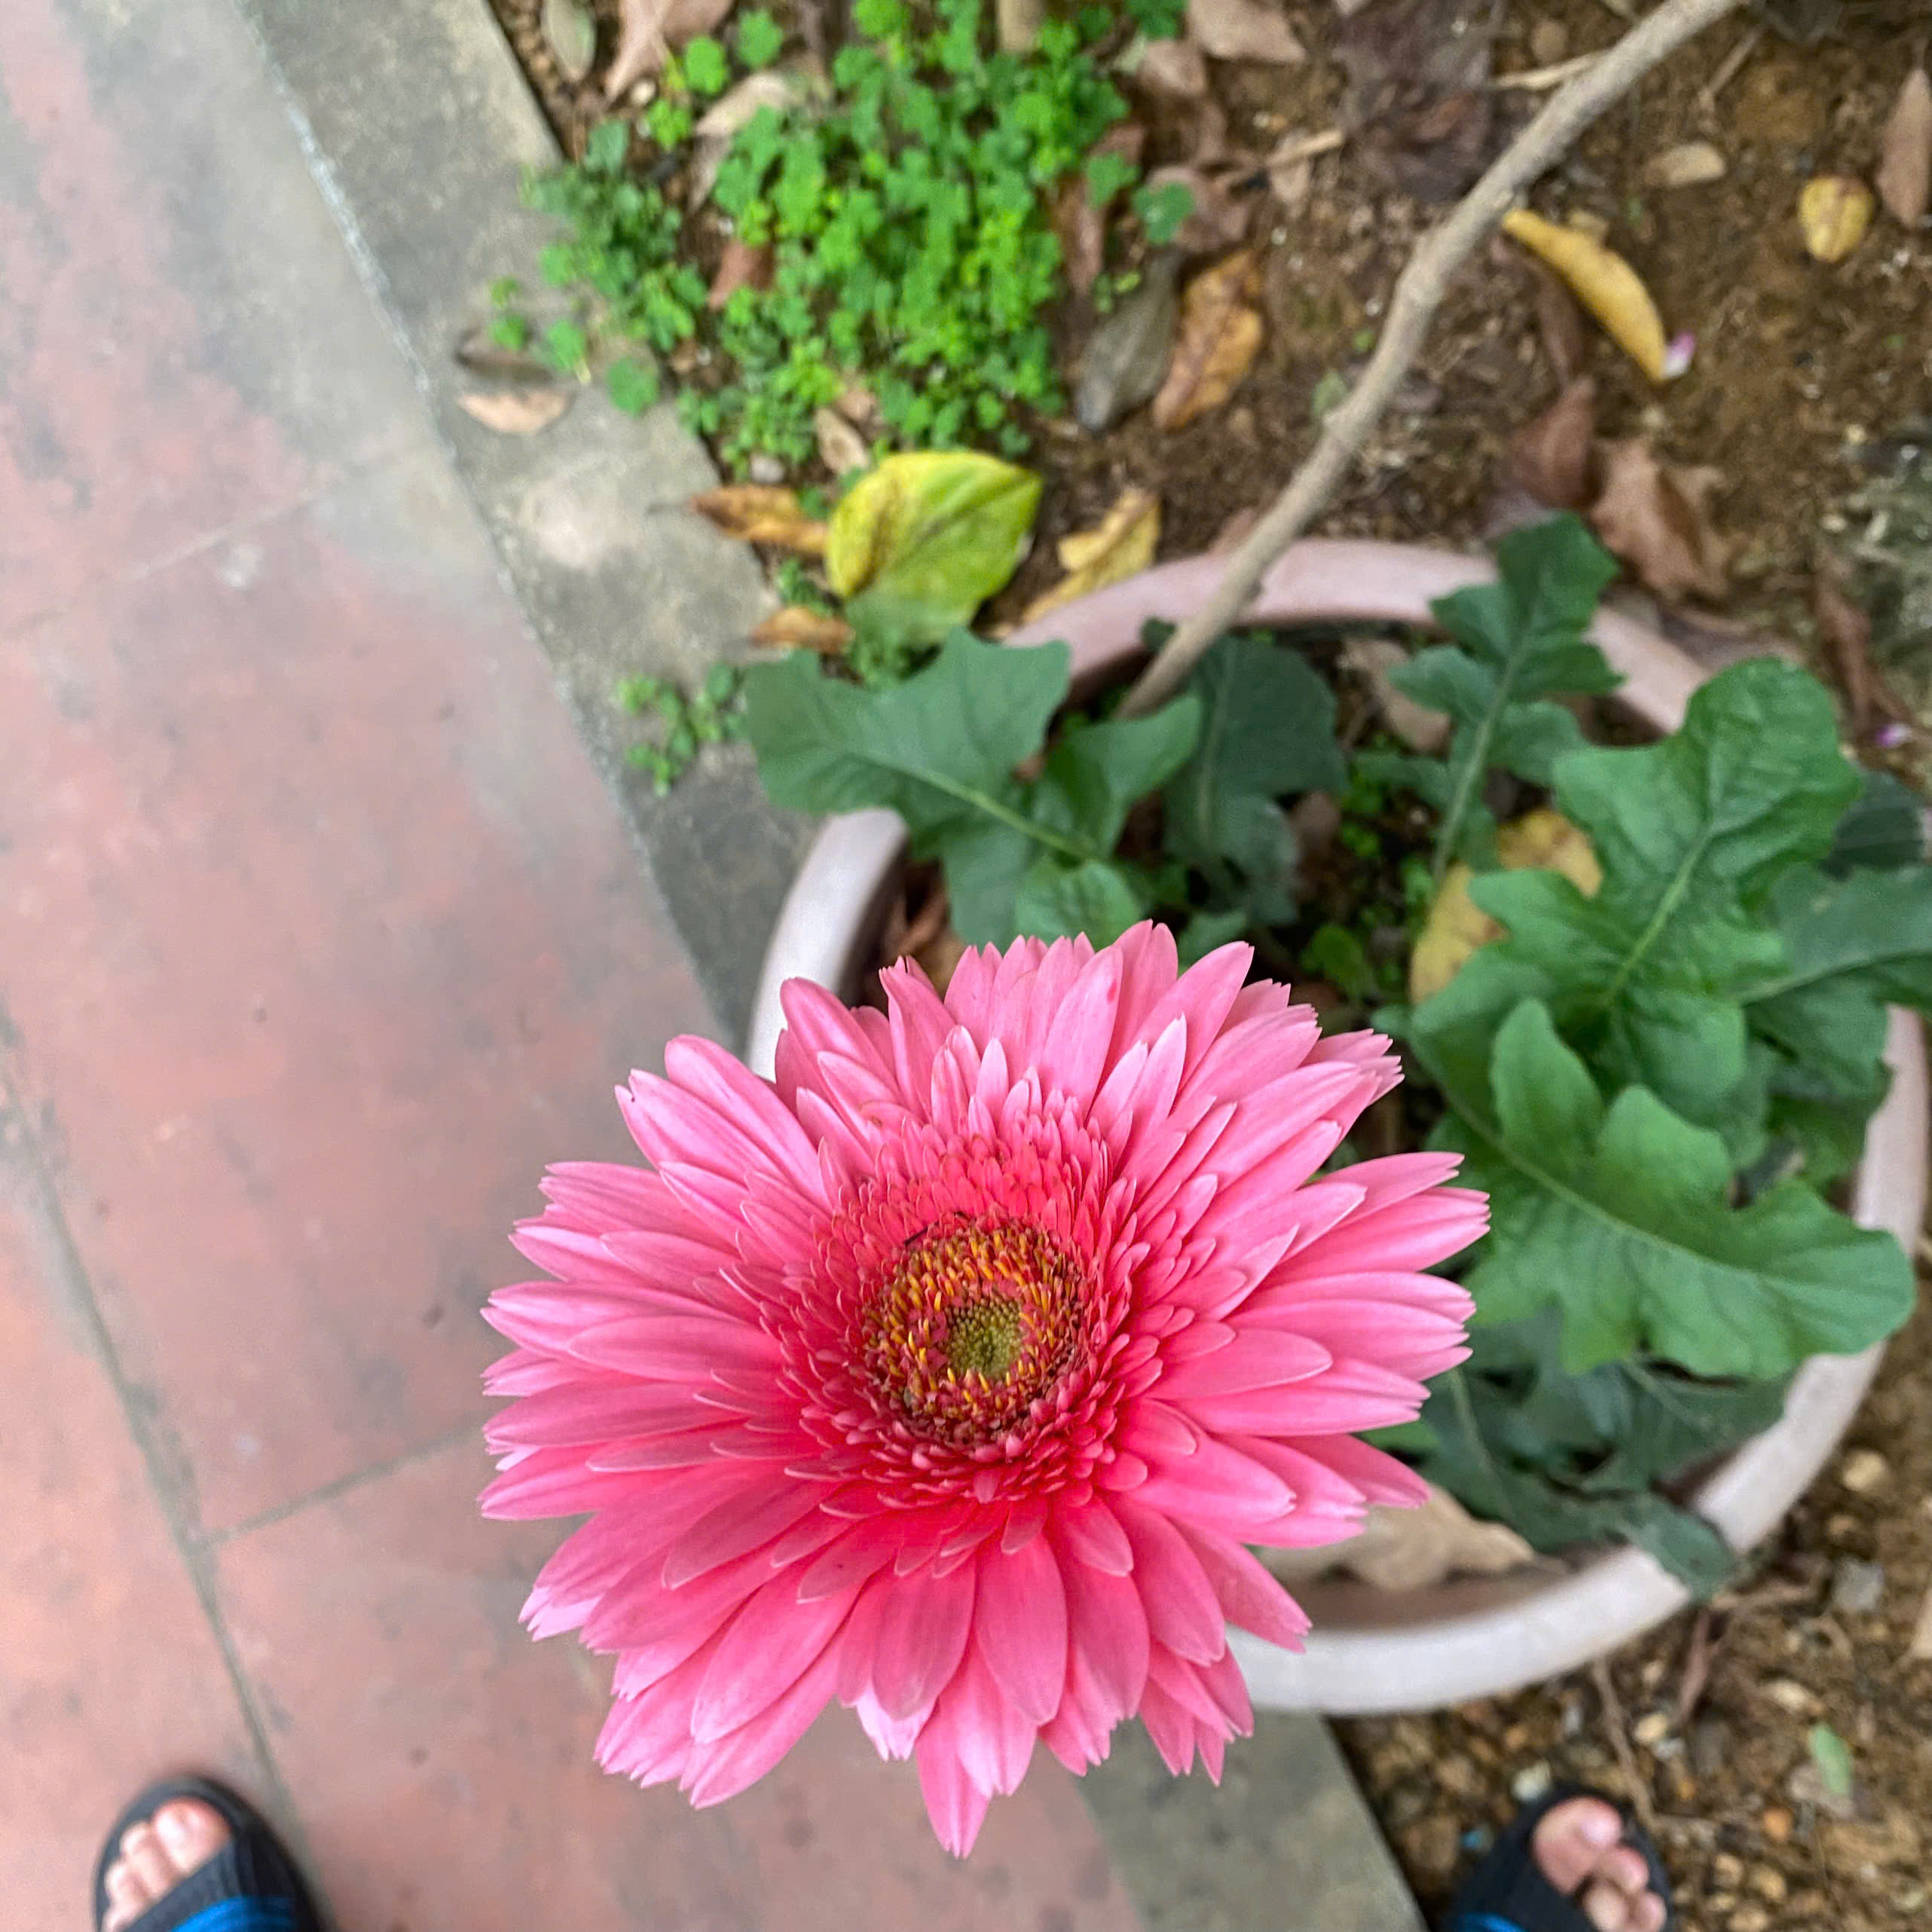hoa_huong_duong: (380, 663, 1502, 1891)
